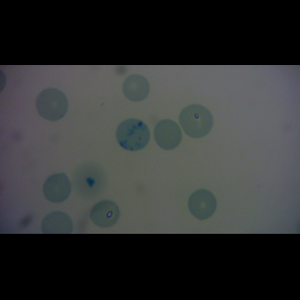aggregate reticulocyte: (115, 118, 151, 151)
erythrocyte: (178, 103, 214, 139), (152, 118, 183, 151), (42, 172, 73, 204), (187, 189, 218, 220), (89, 199, 121, 228), (121, 74, 151, 103)
punctate reticulocyte: (35, 87, 68, 122)
